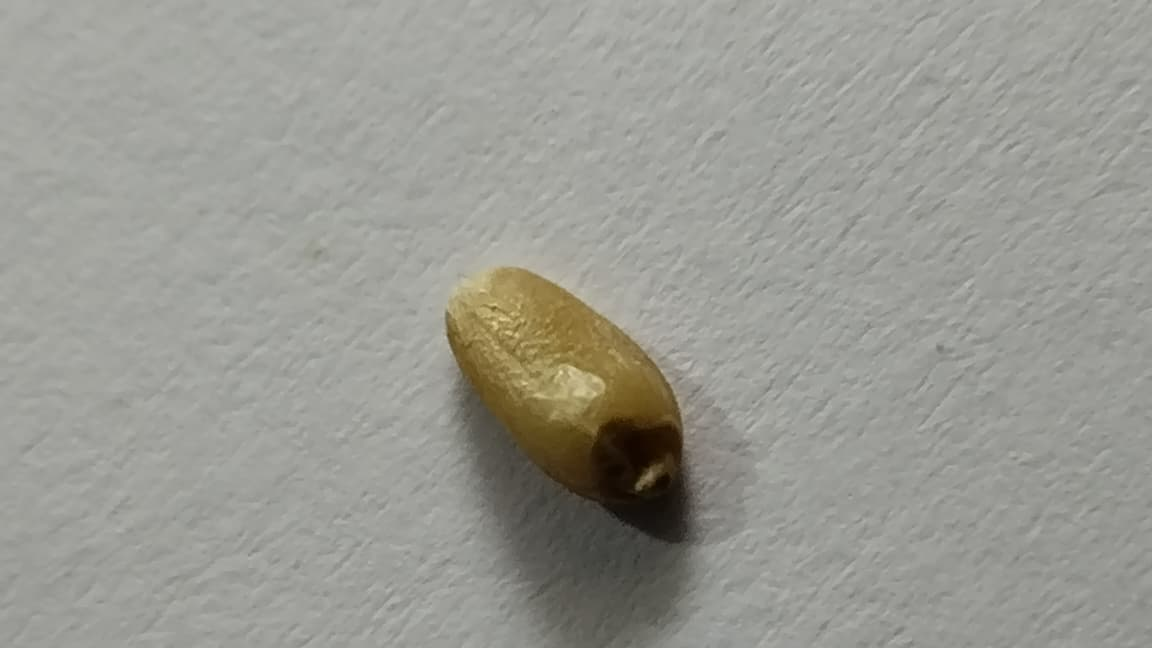black_point: (586, 414, 681, 502)
healthy: (444, 265, 685, 512)
